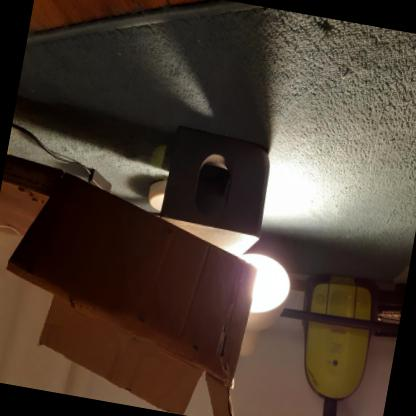CornerCasting: (148, 121, 280, 261)
